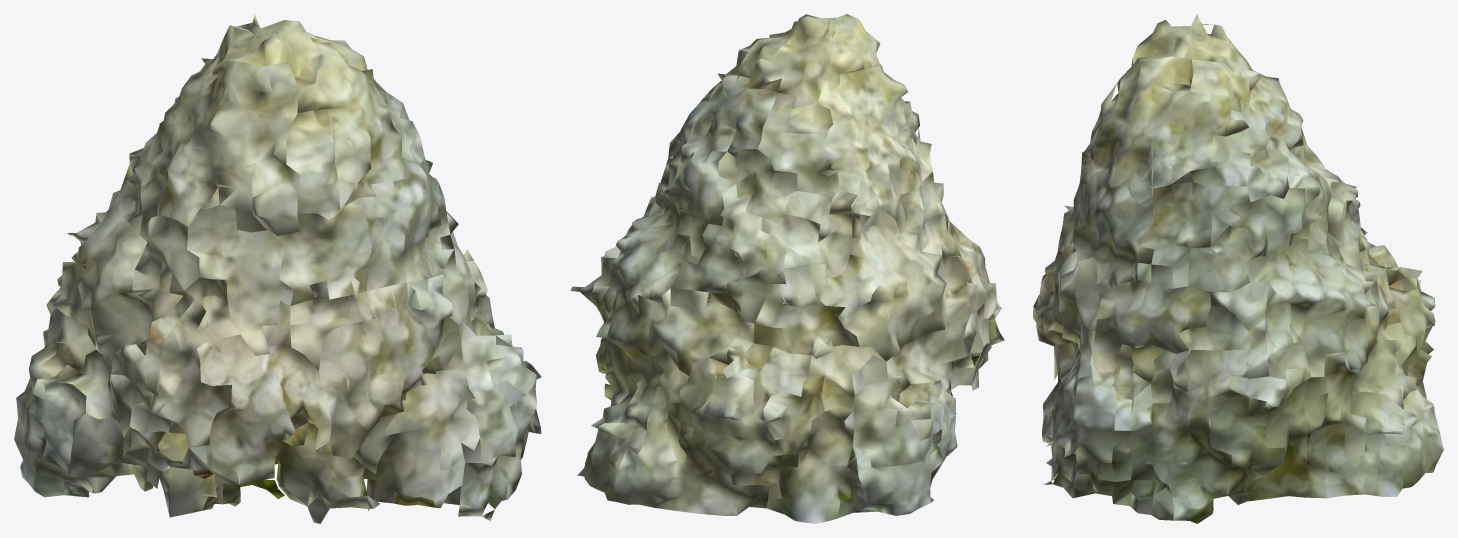
3 views of the same model, side by side, from view 1: azimuth 30°, elevation 25°; view 2: azimuth 150°, elevation 25°; view 3: azimuth 270°, elevation 25° (orthographic). The views are drawn at different scales.
Parts seen in each view (by area): view 1: 114711bf; view 2: 114711bf; view 3: 114711bf.
Boxes of the visible parts, x1,y1,x2,y2 form: 114711bf: (14,14,541,523); 114711bf: (570,14,1004,523); 114711bf: (1033,14,1443,523).
Size of the model in its own units: 0.1525 by 0.1674 by 0.1499.
Materials: 1 (1 with a texture image).
